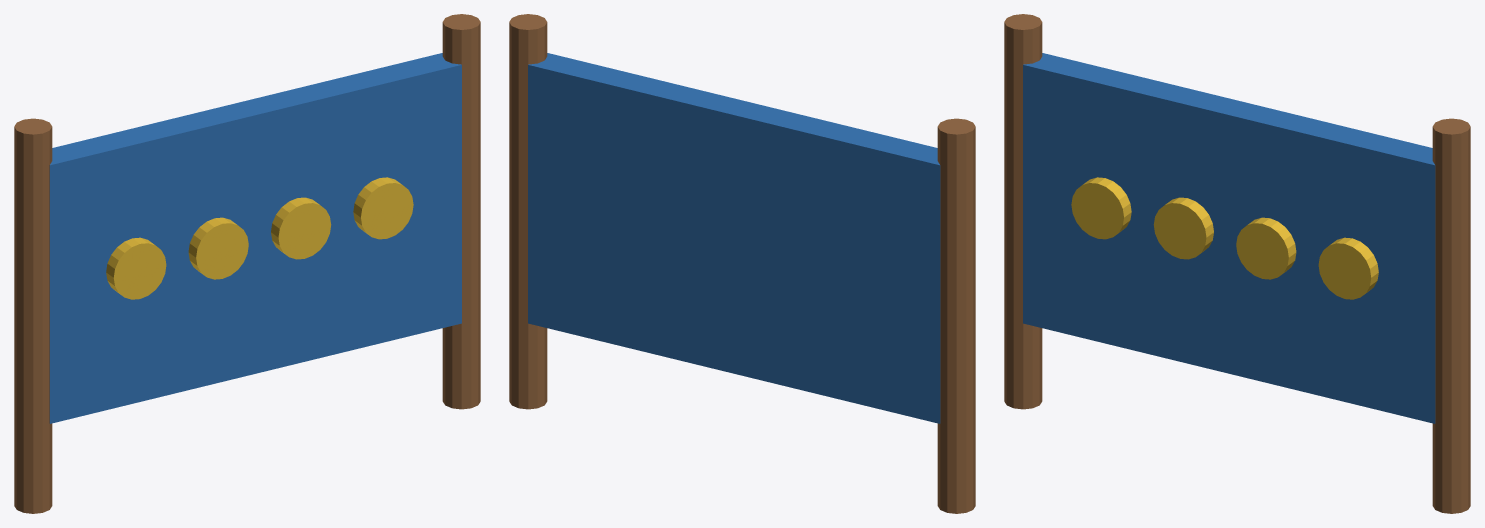
Rendered from sensory-panel.glb.
The picture shows the model from 3 angles, left to right: view 1: azimuth 30°, elevation 25°; view 2: azimuth 150°, elevation 25°; view 3: azimuth 330°, elevation 25°; orthographic projection.
Visible parts, largest first — view 1: Activity panel, Panel post, Panel post.001, Panel tactile disc.003, Panel tactile disc.001, Panel tactile disc.002, Panel tactile disc; view 2: Activity panel, Panel post, Panel post.001; view 3: Activity panel, Panel post.001, Panel post, Panel tactile disc, Panel tactile disc.002, Panel tactile disc.001, Panel tactile disc.003.
Boxes of the visible parts, <box> form: Activity panel: <box>49,53,461,423</box>; Panel post: <box>14,118,52,513</box>; Panel post.001: <box>442,14,480,409</box>; Panel tactile disc.003: <box>353,177,413,239</box>; Panel tactile disc.001: <box>188,217,248,279</box>; Panel tactile disc.002: <box>271,197,331,259</box>; Panel tactile disc: <box>106,237,166,299</box>; Activity panel: <box>528,53,940,423</box>; Panel post: <box>937,118,975,513</box>; Panel post.001: <box>509,14,547,409</box>; Activity panel: <box>1023,53,1435,423</box>; Panel post.001: <box>1432,118,1470,513</box>; Panel post: <box>1004,14,1042,409</box>; Panel tactile disc: <box>1071,177,1131,239</box>; Panel tactile disc.002: <box>1236,217,1296,279</box>; Panel tactile disc.001: <box>1153,197,1213,259</box>; Panel tactile disc.003: <box>1318,237,1378,299</box>.
Bounding box in the file's own units: 2.8 × 2.2 × 0.27.
